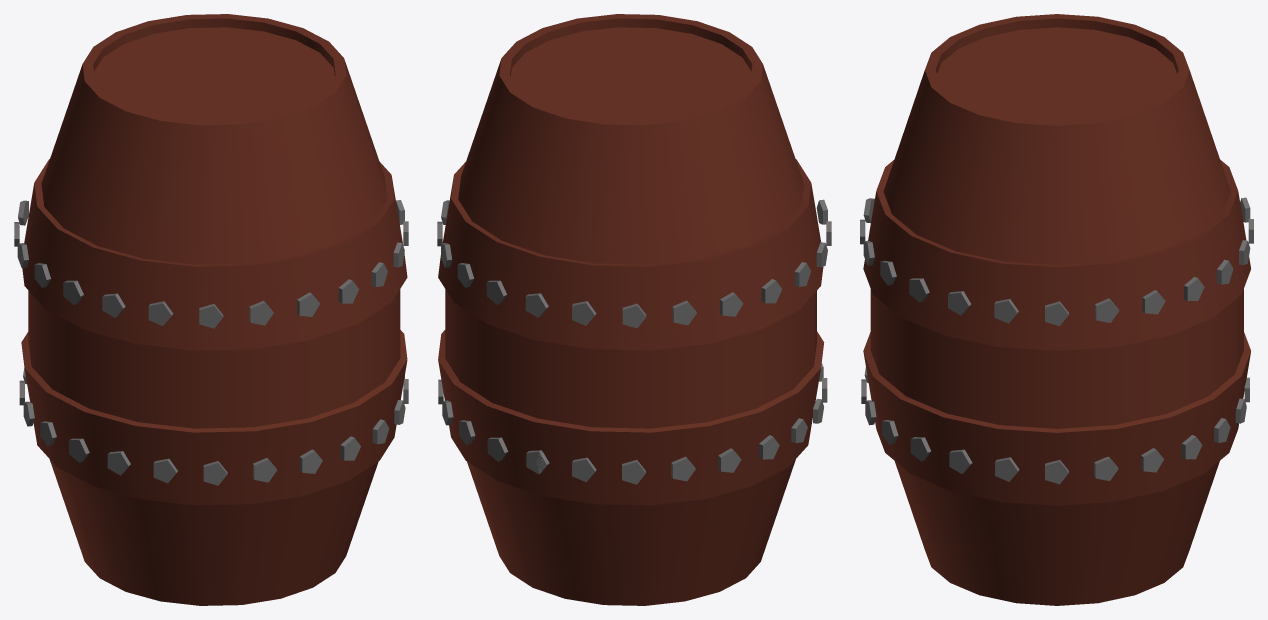
The model's file is prop_barrel_justin.fbx.
3 views of the same model, side by side, from view 1: azimuth 30°, elevation 25°; view 2: azimuth 150°, elevation 25°; view 3: azimuth 270°, elevation 25° (orthographic).
Parts seen in each view (by area): view 1: prop_barrel_justin; view 2: prop_barrel_justin; view 3: prop_barrel_justin.
Part boxes in pixels (x1,y1,x2,y2): prop_barrel_justin: (14, 14, 408, 605); prop_barrel_justin: (437, 14, 831, 605); prop_barrel_justin: (860, 14, 1253, 605).
Size of the model in its own units: 2.98 by 4 by 2.97.
